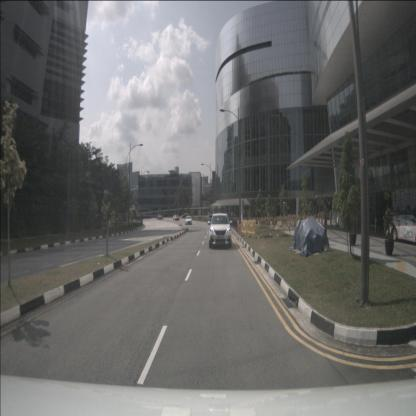human-pedestrian-adult: (329, 209, 332, 226)
vehicle-car: (386, 213, 416, 244), (209, 213, 231, 249), (173, 214, 180, 222), (185, 216, 192, 224)
